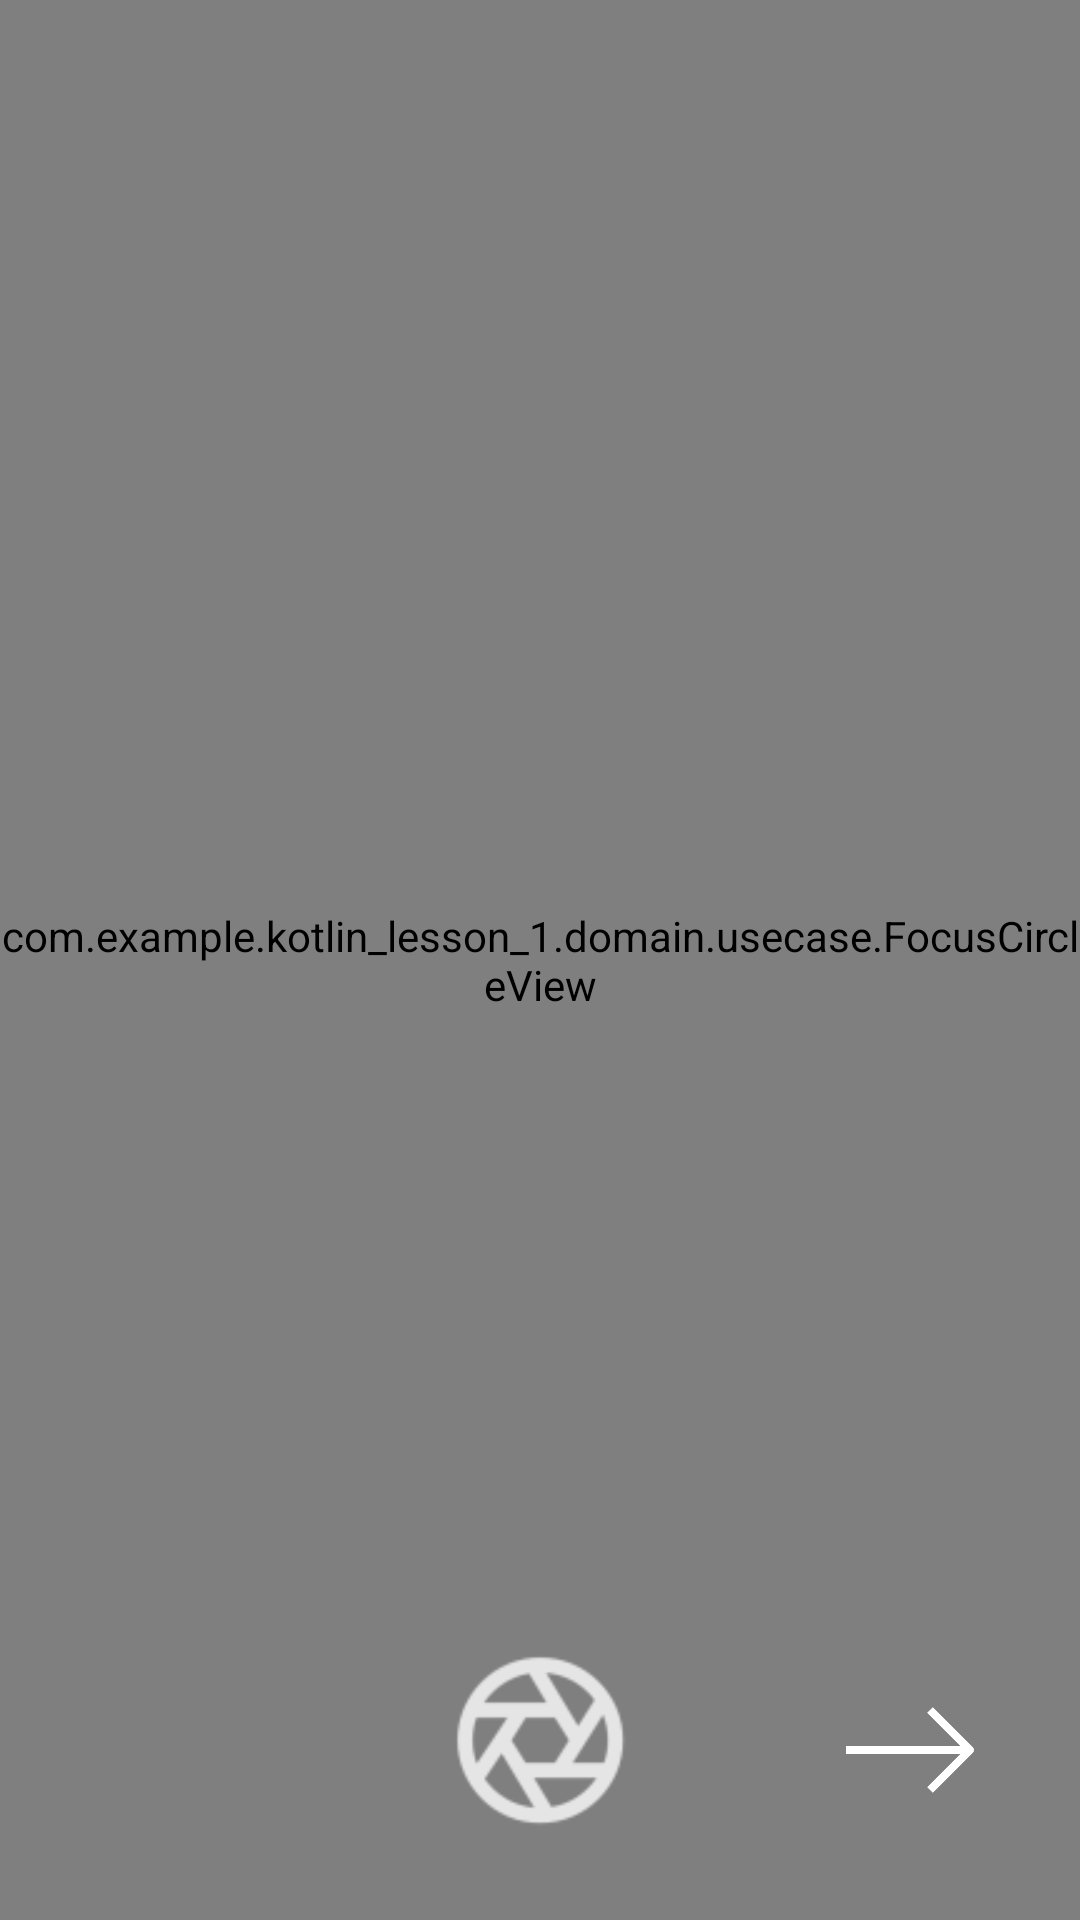

Named icons in this screenshot (1080*1920) and their bounding boxes, (x1, y1, x2, y2):
camera shutter: (457, 1657, 624, 1824)
continue: (846, 1707, 974, 1793)
